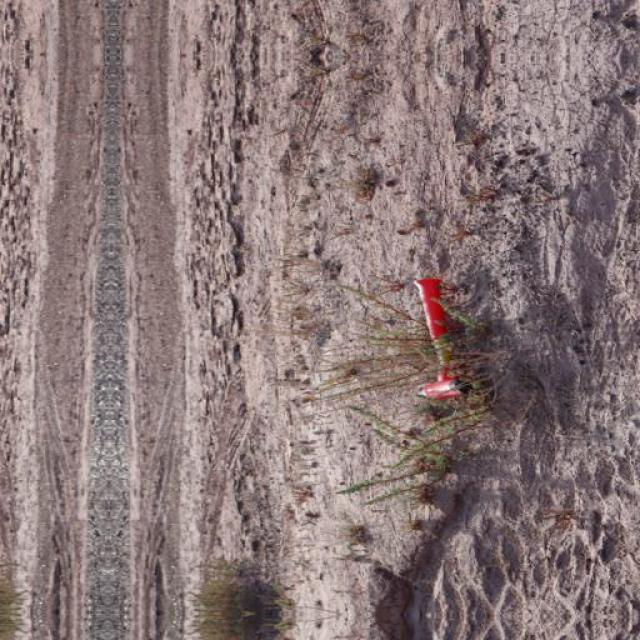mallet: (414, 275, 466, 400)
